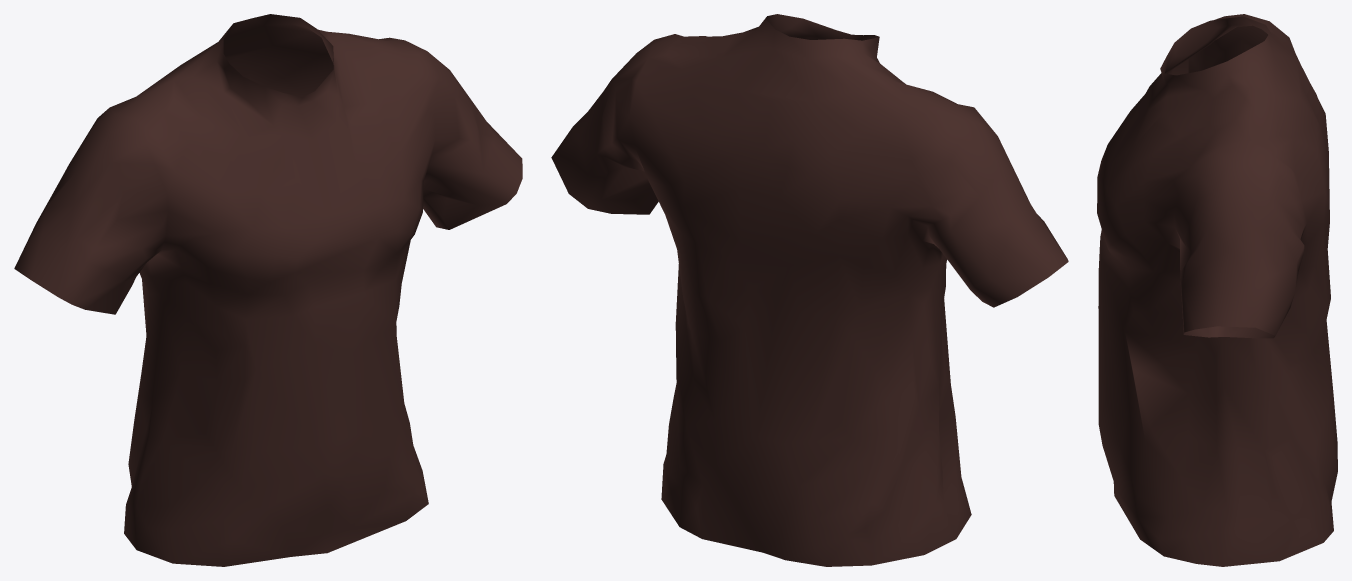
The model's file is tshirt_centered.fbx.
3 views of the same model, side by side, from view 1: azimuth 30°, elevation 25°; view 2: azimuth 150°, elevation 25°; view 3: azimuth 270°, elevation 25° (orthographic). The views are drawn at different scales.
Visible parts, largest first — view 1: T-Shirt; view 2: T-Shirt; view 3: T-Shirt.
Part boxes in pixels (bbox=[...]): T-Shirt: bbox=[14, 14, 522, 566]; T-Shirt: bbox=[551, 14, 1068, 566]; T-Shirt: bbox=[1097, 14, 1337, 566].
Bounding box in the file's own units: 663 × 629 × 289.
